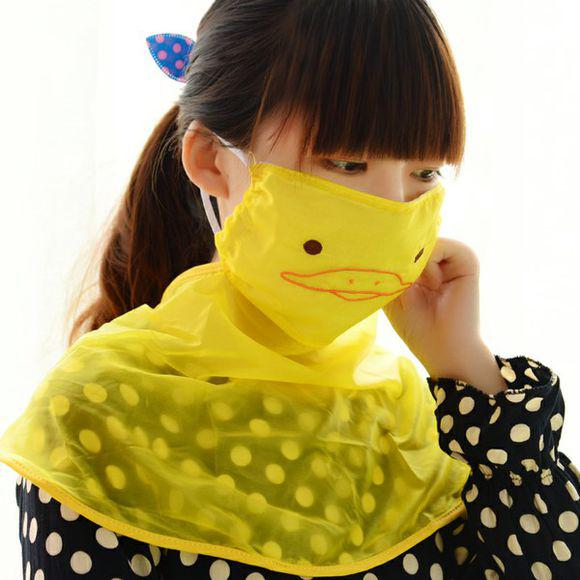OK: (226, 111, 442, 327)
